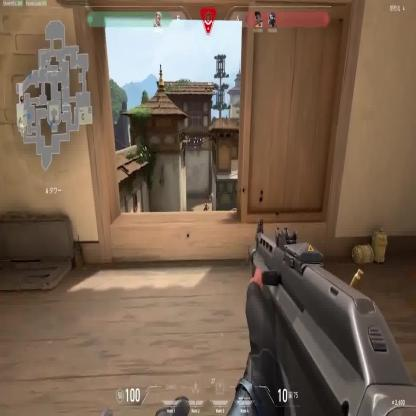enemy: (203, 198, 207, 211)
enemy_head: (204, 197, 206, 201)
